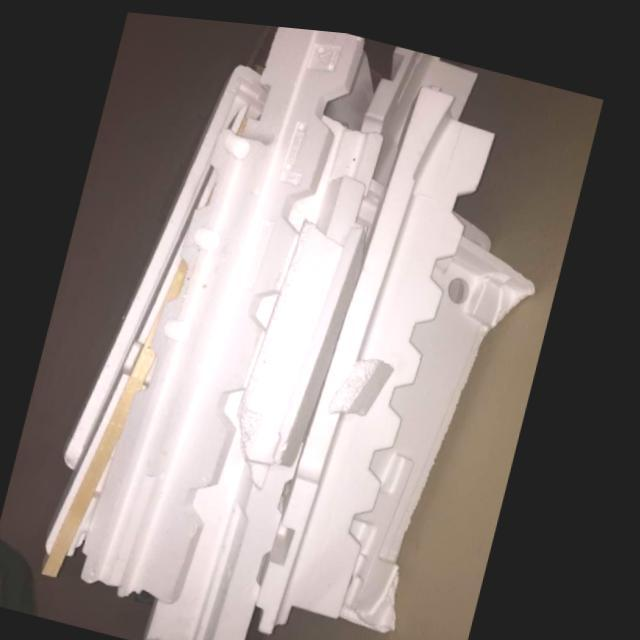styrofoam: (90, 21, 364, 602), (267, 80, 495, 631), (243, 169, 369, 463), (335, 351, 400, 409)
